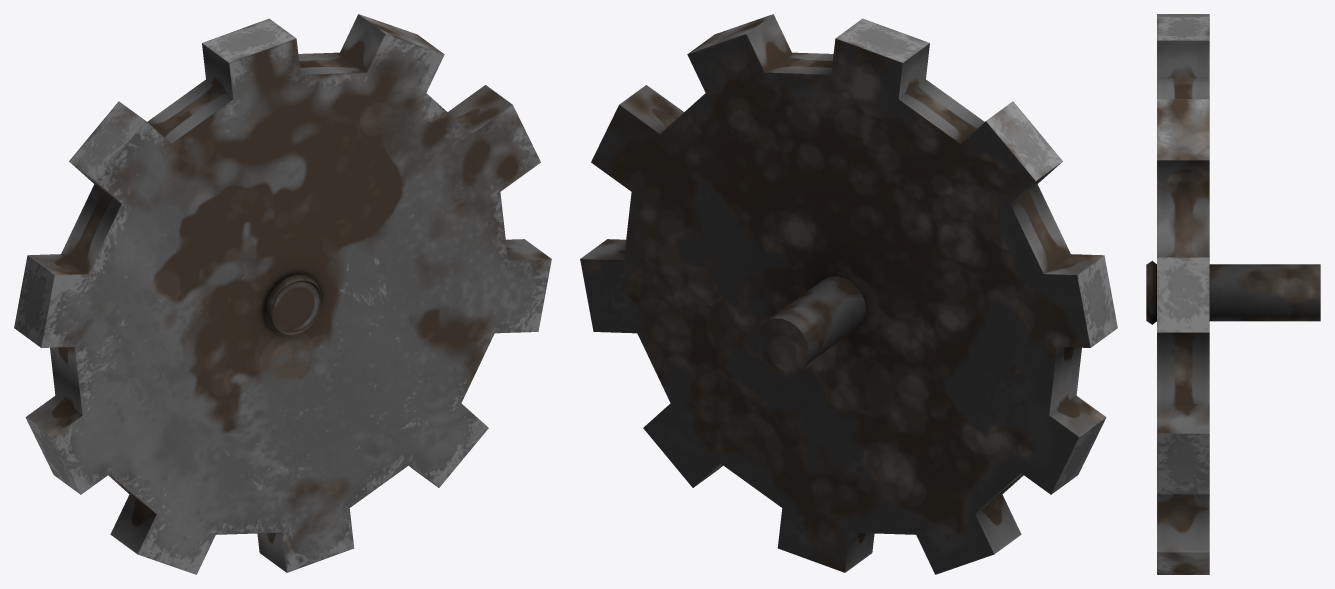
File: Gear.fbx
The picture shows the model from 3 angles, left to right: view 1: azimuth 30°, elevation 25°; view 2: azimuth 150°, elevation 25°; view 3: azimuth 270°, elevation 25°; orthographic projection. The views are drawn at different scales.
Parts seen in each view (by area): view 1: Gear; view 2: Gear; view 3: Gear.
Boxes of the visible parts, bbox=[...] form: Gear: bbox=[14, 14, 551, 574]; Gear: bbox=[580, 14, 1117, 574]; Gear: bbox=[1146, 14, 1320, 574].
Bounding box in the file's own units: 24.65 × 7.55 × 24.55.
Materials: 1 (1 with a texture image).
